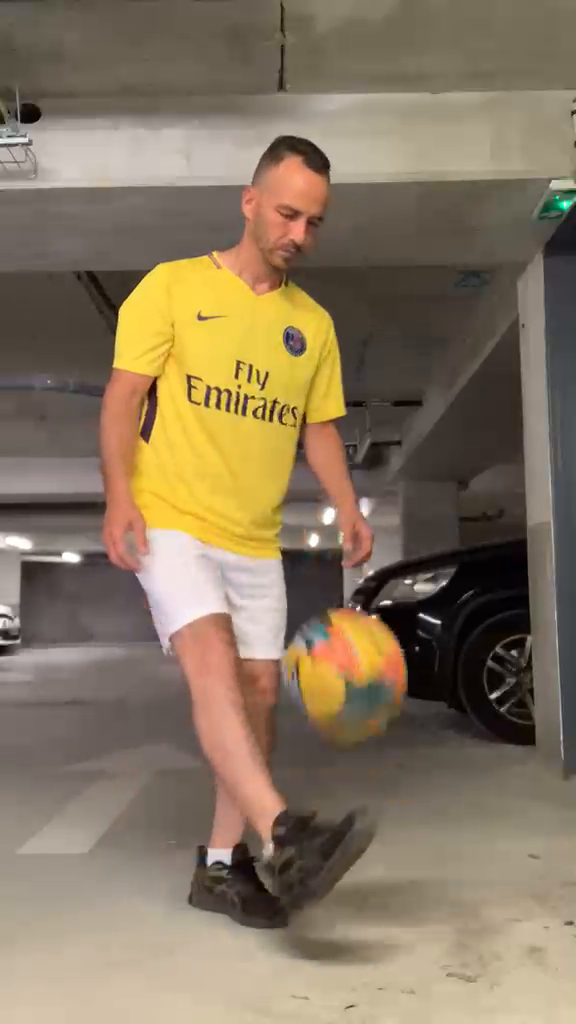ball: (273, 606, 416, 749)
